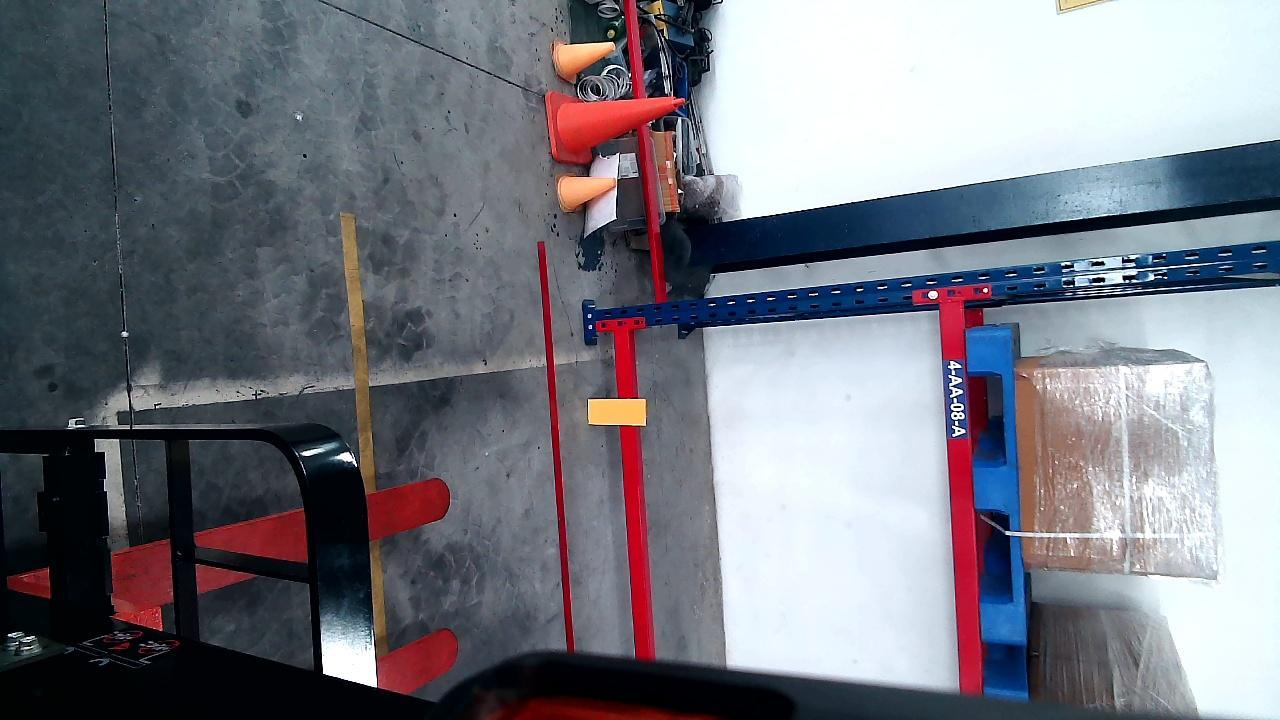red_line: (537, 236, 578, 649)
yellow_line: (338, 206, 375, 496)
